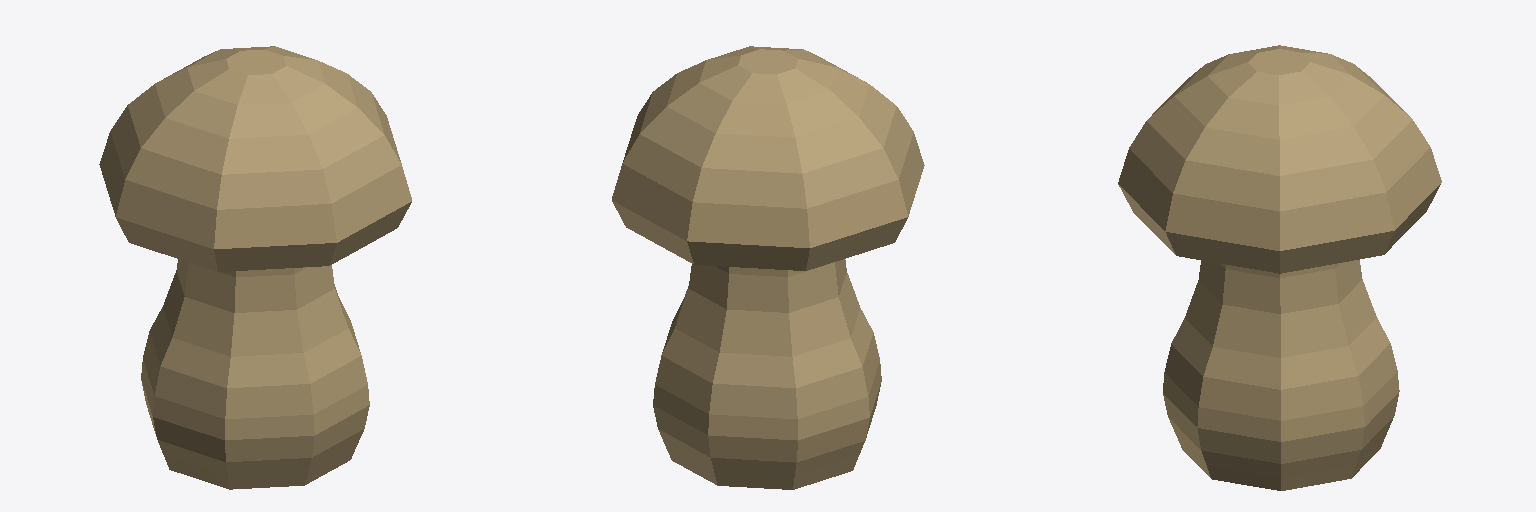
The model's file is mush0.obj.
3 renders of one model, left to right at view 1: azimuth 30°, elevation 25°; view 2: azimuth 150°, elevation 25°; view 3: azimuth 270°, elevation 25°, orthographic.
Parts seen in each view (by area): view 1: Object_32; view 2: Object_32; view 3: Object_32.
Boxes of the visible parts, <box> form: Object_32: <box>99,46,411,489</box>; Object_32: <box>612,46,924,489</box>; Object_32: <box>1118,45,1441,490</box>.
Bounding box in the file's own units: 12.24 × 16.16 × 12.24.